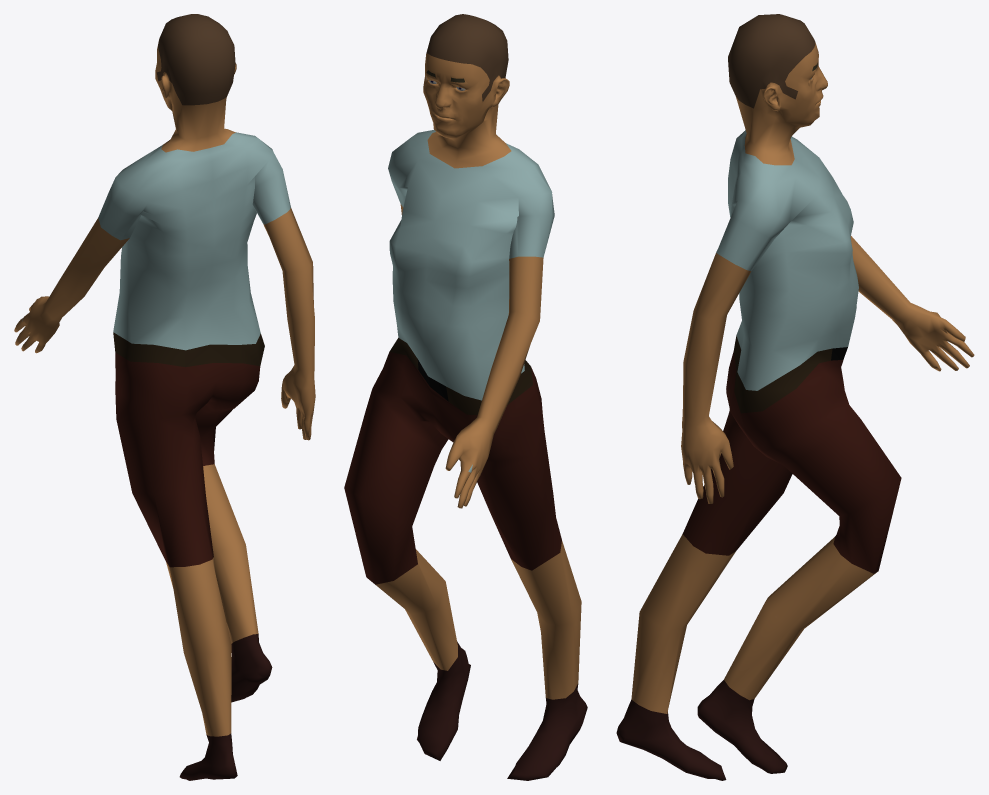
File: person2_000004.obj
The picture shows the model from 3 angles, left to right: view 1: azimuth 30°, elevation 25°; view 2: azimuth 150°, elevation 25°; view 3: azimuth 270°, elevation 25°; orthographic projection. The views are drawn at different scales.
Visible parts, largest first — view 1: Cube; view 2: Cube; view 3: Cube.
Boxes of the visible parts, x1,y1,x2,y2 form: Cube: (14,14,315,780); Cube: (344,14,587,780); Cube: (616,14,974,780).
Size of the model in its own units: 24.87 by 95.32 by 40.08.
